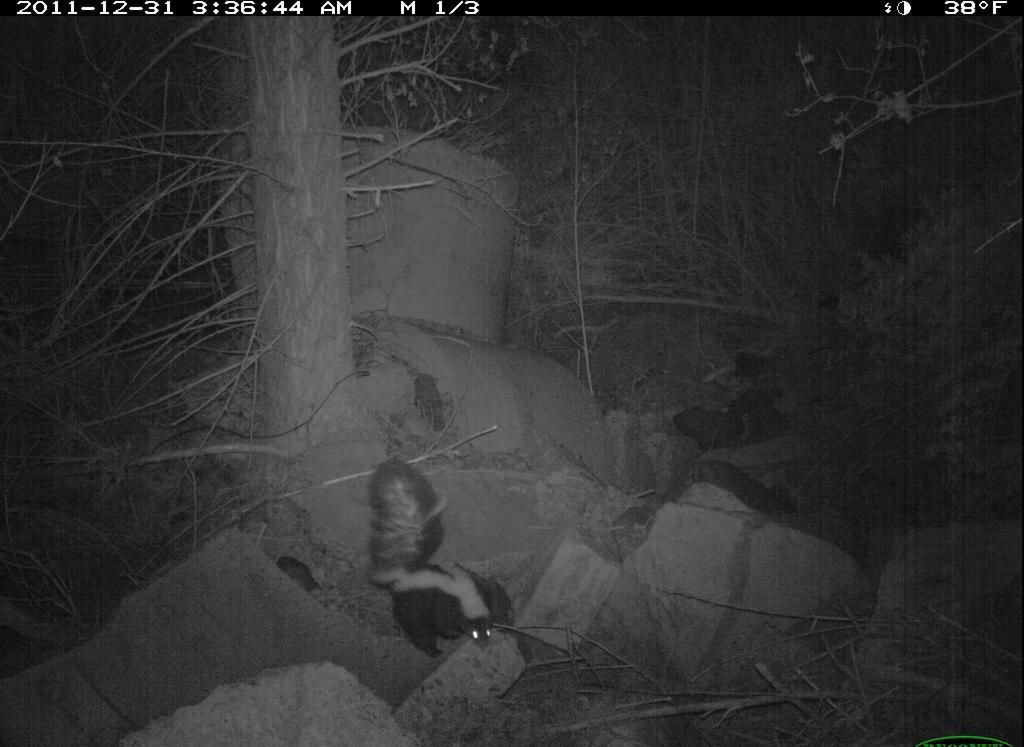skunk: (358, 450, 511, 662)
